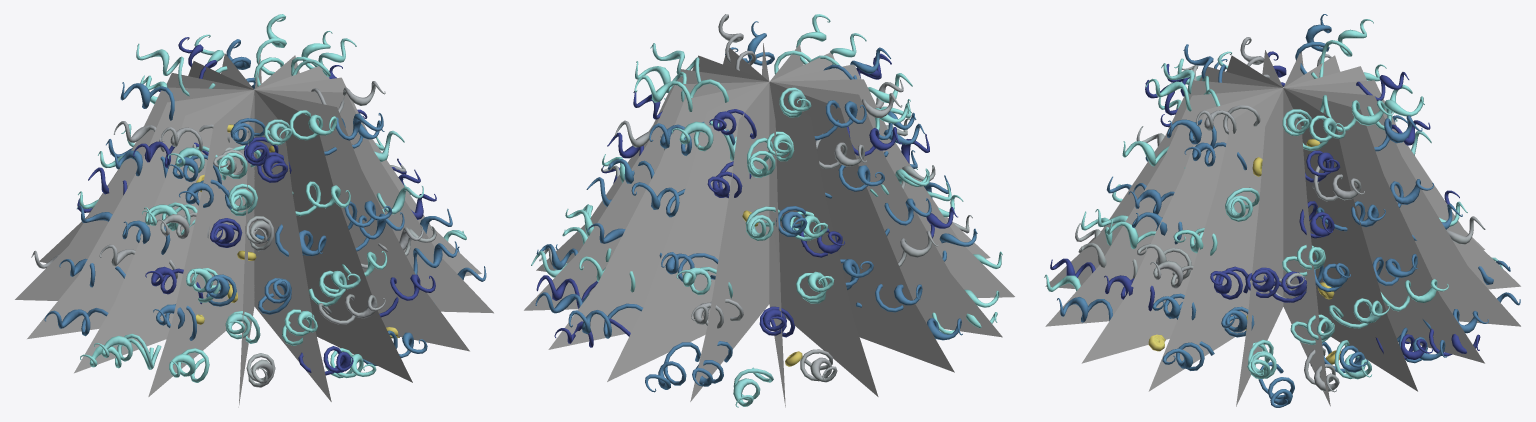
File: MidDecor1.fbx
3 renders of one model, left to right at view 1: azimuth 30°, elevation 25°; view 2: azimuth 150°, elevation 25°; view 3: azimuth 270°, elevation 25°, orthographic. The views are drawn at different scales.
Visible parts, largest first — view 1: MidDecor1_LOD0; view 2: MidDecor1_LOD0; view 3: MidDecor1_LOD0.
Part boxes in pixels (x1,y1,x2,y2): MidDecor1_LOD0: (15, 14, 493, 407); MidDecor1_LOD0: (524, 14, 1014, 407); MidDecor1_LOD0: (1044, 14, 1520, 407).
Size of what is drawn, in the model's own units: 427 by 261 by 425.
